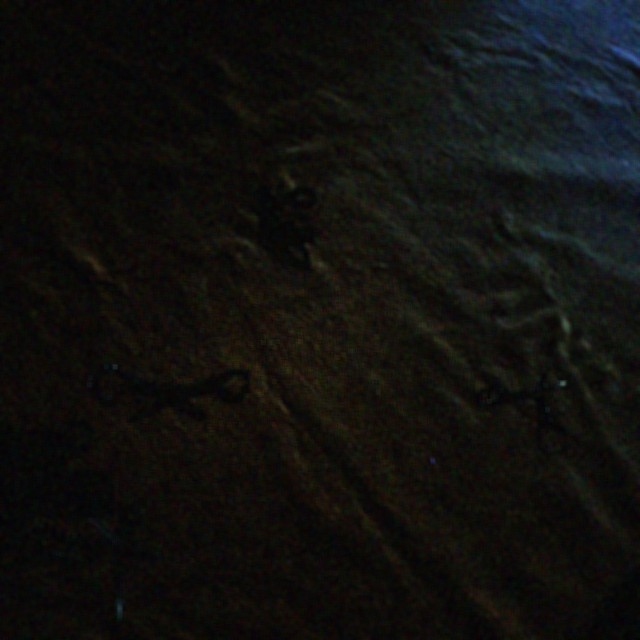scissors: (32, 500, 167, 626), (0, 419, 123, 553), (89, 366, 250, 422), (473, 370, 566, 454), (249, 185, 317, 269)
